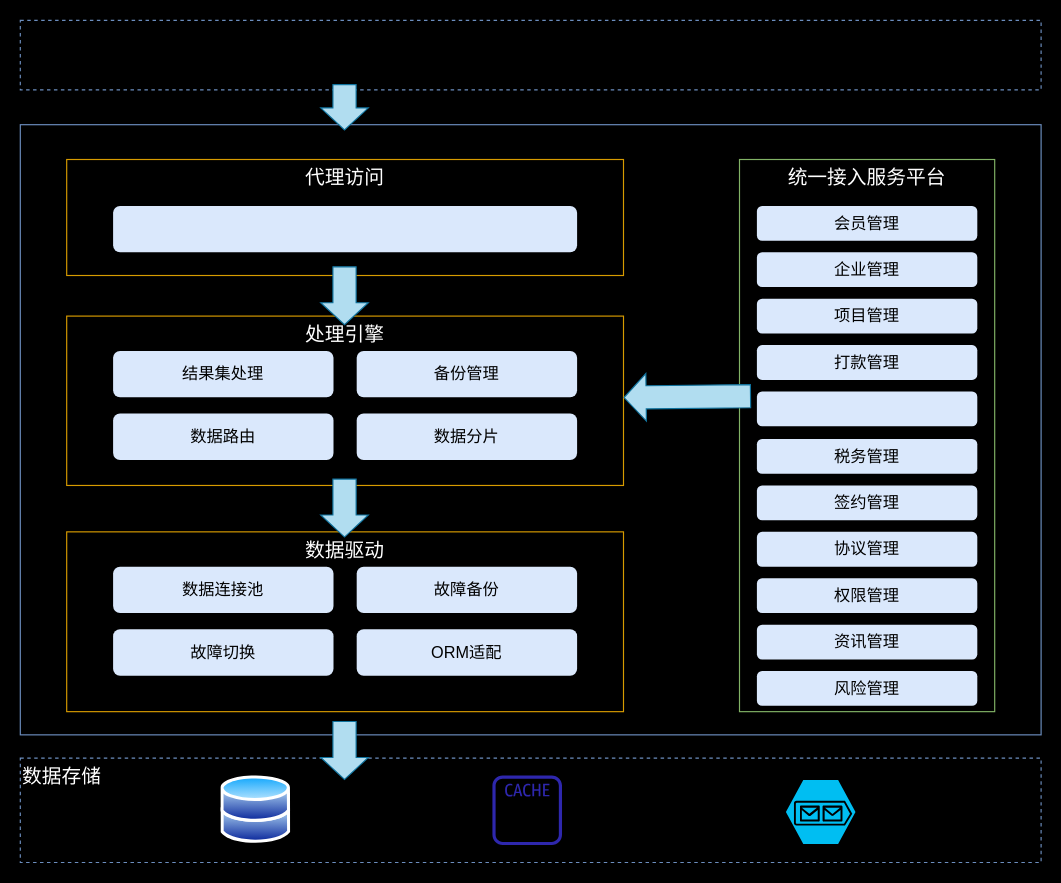
Some shapes in this 1061 by 883 pixel diagram are drawn without their labels. Here are the shapes that lost their labels. From the top down, the centre of each, then its label:
point 530,54: 应用系统
point 345,228: 统一访问服务
point 866,408: 发票管理
